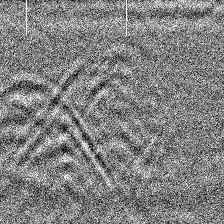Utility: (0, 67, 116, 179)
